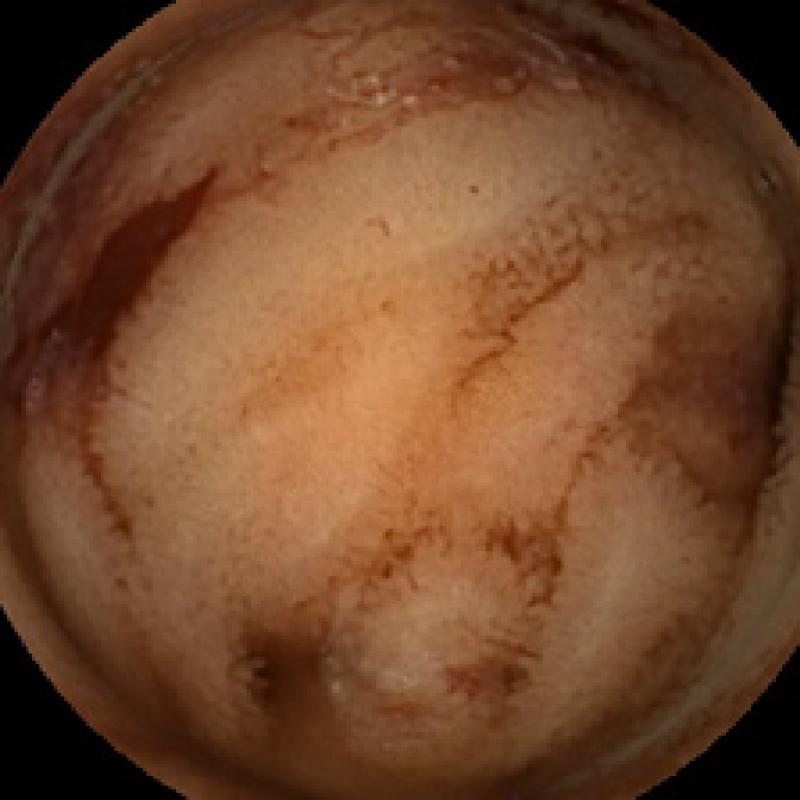bleeding: (0, 161, 229, 396)
